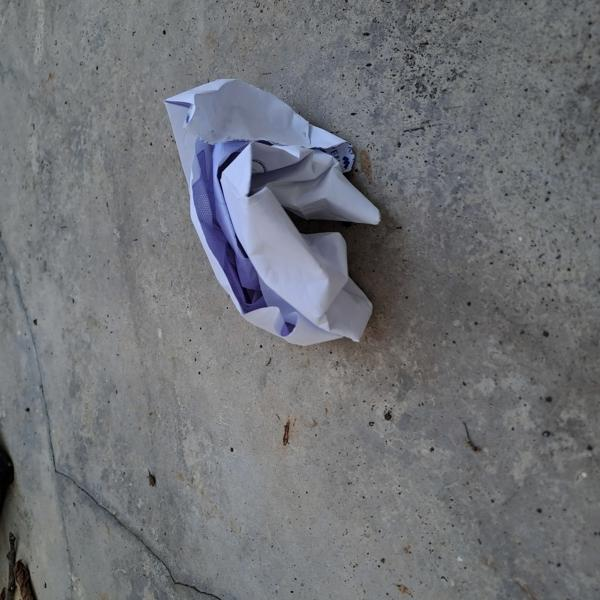Organik: (165, 80, 397, 373)
